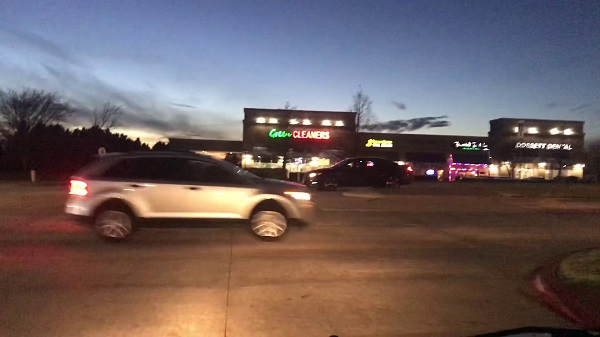car: (68, 148, 312, 243), (306, 155, 414, 190)
